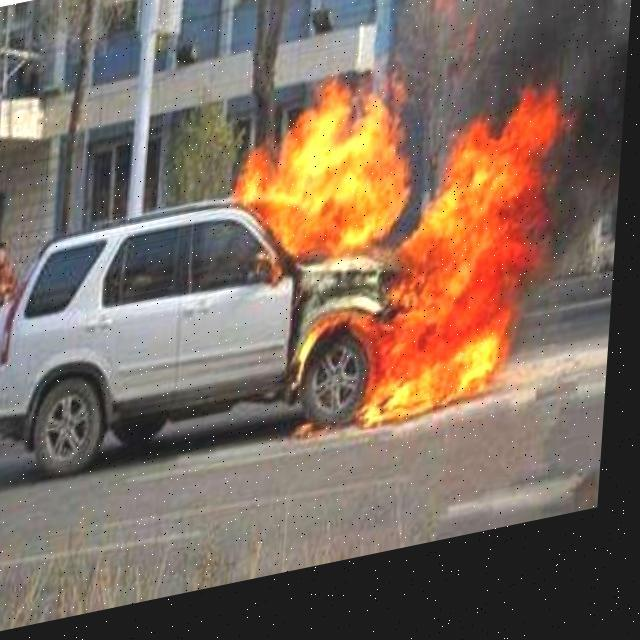Fire: (230, 52, 571, 465)
